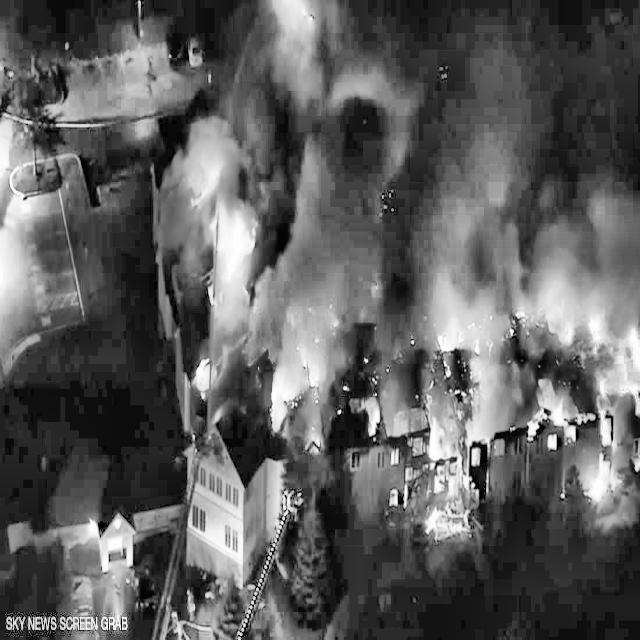fire: (161, 50, 640, 617)
